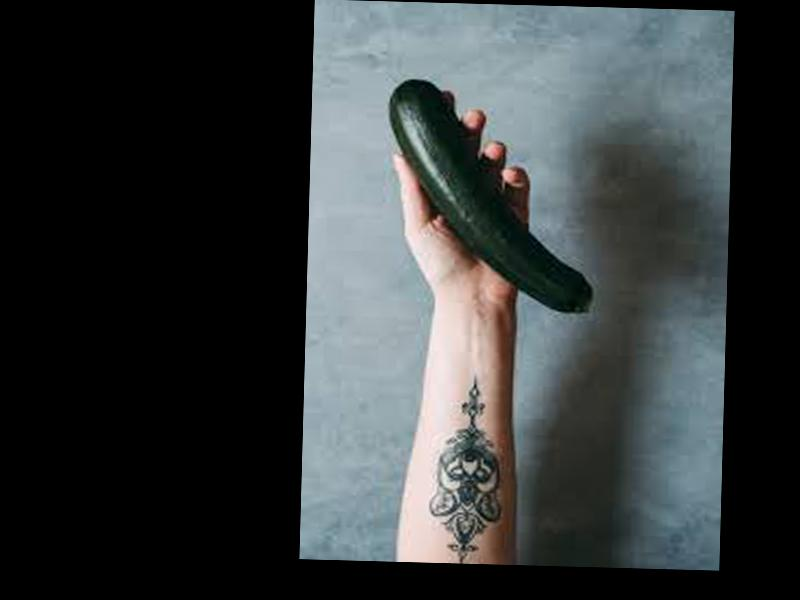Cucumber: (384, 78, 597, 312)
